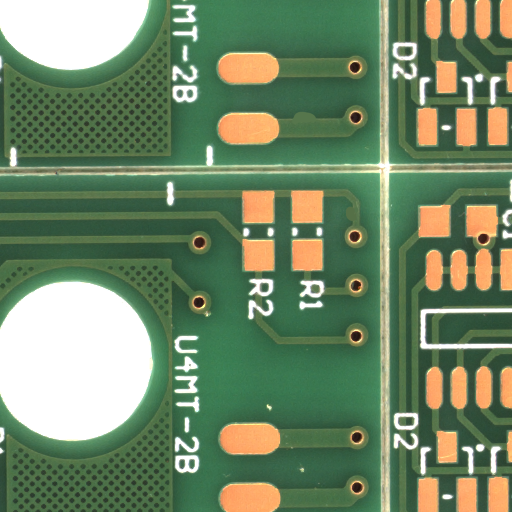Spur: (303, 117, 334, 129), (348, 213, 361, 230)
